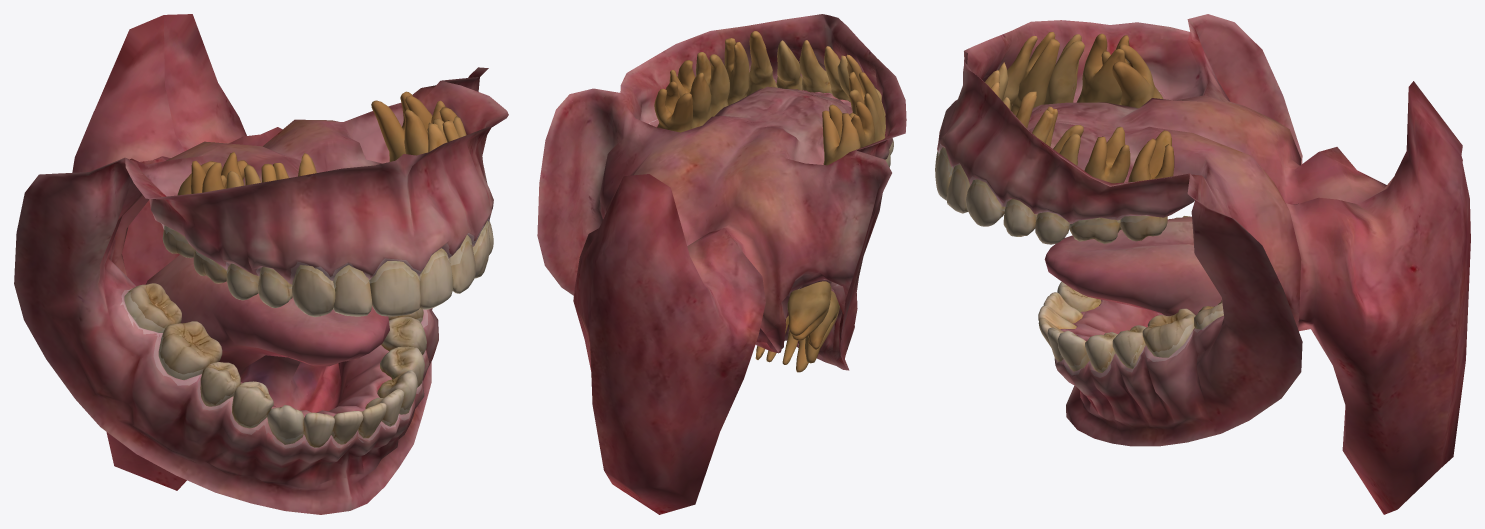
File: mouth-lite.glb
3 views of the same model, side by side, from view 1: azimuth 30°, elevation 25°; view 2: azimuth 150°, elevation 25°; view 3: azimuth 270°, elevation 25° (orthographic). The views are drawn at different scales.
Visible parts, largest first — view 1: Object_4, Object_6, Object_8; view 2: Object_4, Object_6; view 3: Object_4, Object_6, Object_8.
Boxes of the visible parts, bbox=[...] form: Object_4: bbox=[14, 14, 508, 514]; Object_6: bbox=[124, 91, 493, 447]; Object_8: bbox=[121, 219, 488, 448]; Object_4: bbox=[537, 14, 906, 514]; Object_6: bbox=[654, 31, 893, 372]; Object_4: bbox=[937, 14, 1470, 514]; Object_6: bbox=[935, 32, 1223, 372]; Object_8: bbox=[938, 91, 1223, 377].
Size of the model in its own units: 0.2433 by 0.2663 by 0.2801.
Materials: 3 (2 with a texture image).
